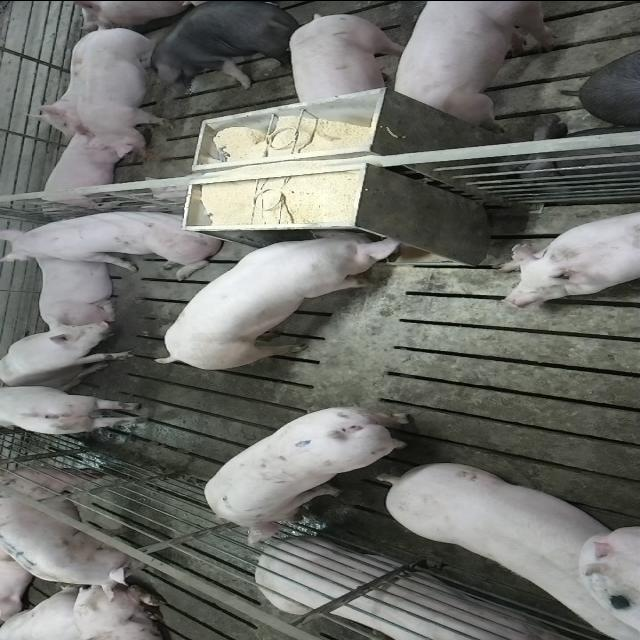Feeding: (154, 220, 406, 366)
Sitting: (4, 204, 228, 273), (0, 320, 138, 388)
Standing: (372, 457, 634, 635), (204, 405, 422, 545), (386, 1, 564, 125), (1, 467, 140, 596), (140, 2, 304, 96), (72, 22, 178, 160), (288, 10, 410, 109), (2, 382, 158, 436)
Sternal_lying: (256, 541, 584, 640), (496, 205, 640, 308), (32, 131, 134, 213), (32, 251, 122, 328), (26, 75, 104, 139)
